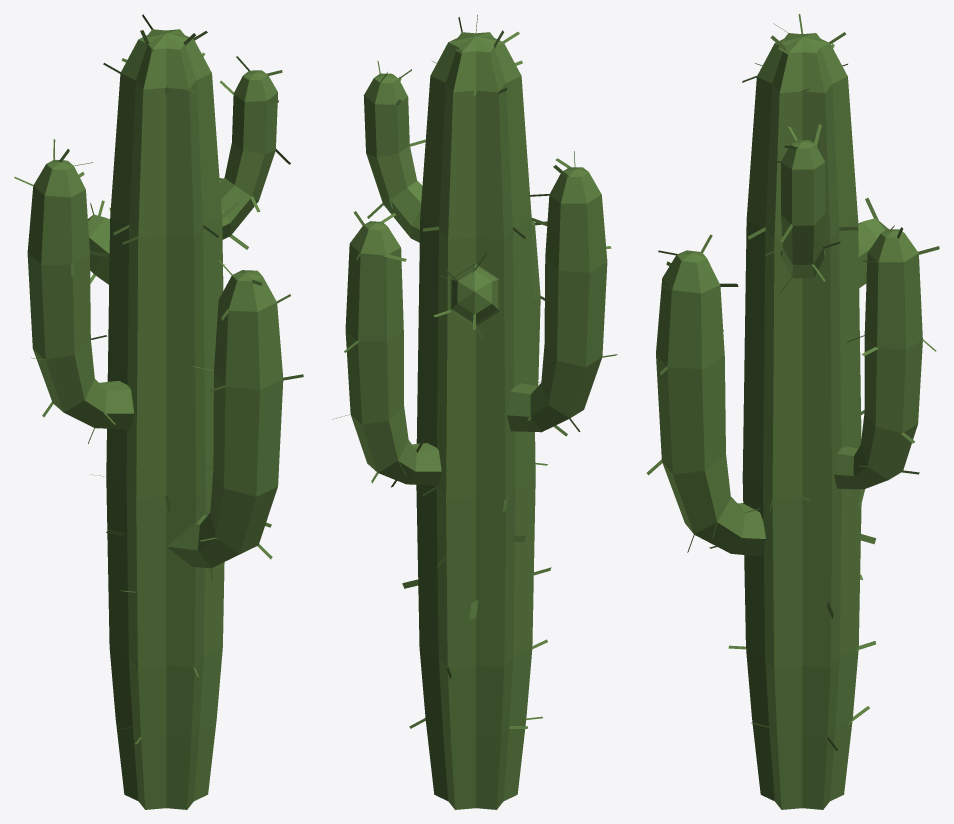
Rendered from SM_Succulent_Cactus_Tall_Mature_A.fbx.
The picture shows the model from 3 angles, left to right: view 1: azimuth 30°, elevation 25°; view 2: azimuth 150°, elevation 25°; view 3: azimuth 270°, elevation 25°; orthographic projection.
Visible parts, largest first — view 1: succulent-cactus-tall-mature-a; view 2: succulent-cactus-tall-mature-a; view 3: succulent-cactus-tall-mature-a.
Boxes of the visible parts, left/top/right/bottom form: succulent-cactus-tall-mature-a: left=14, top=14, right=303, bottom=809; succulent-cactus-tall-mature-a: left=332, top=15, right=617, bottom=809; succulent-cactus-tall-mature-a: left=647, top=14, right=939, bottom=809.
Size of the model in its own units: 0.9296 by 2.72 by 0.9412.
